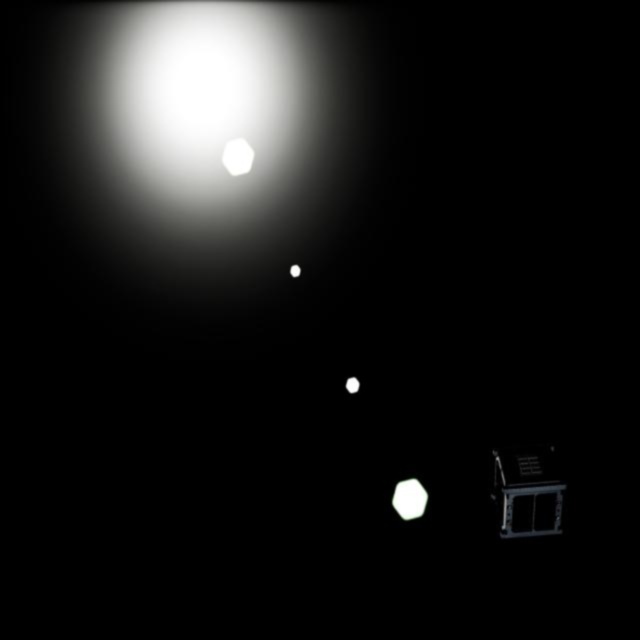medium_debris: (487, 443, 571, 545)
